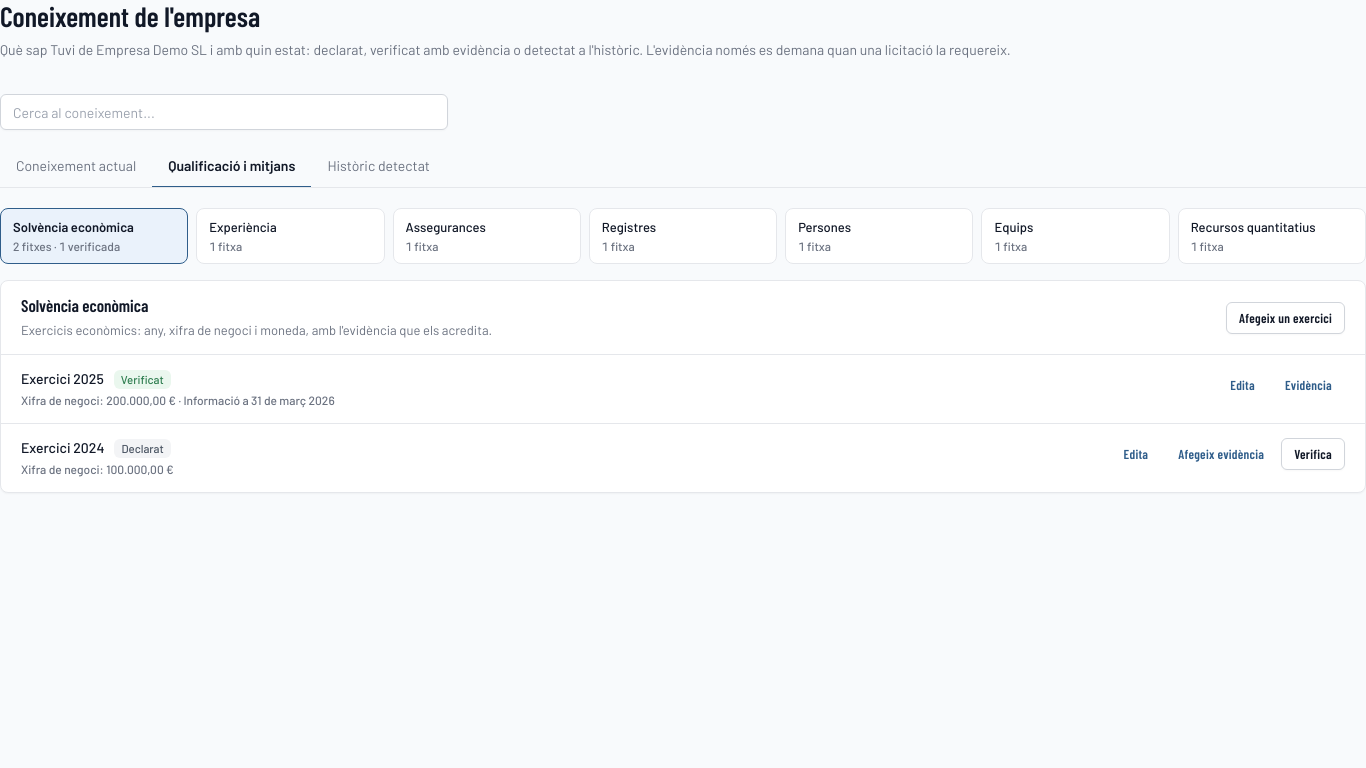
Scenario: Qualificació i mitjans: formularis › un import mal escrit no s'envia i es diu per què
The image size is (1366, 768).
Expected: the navigation bar named "Seccions de qualificació i mitjans" is shown, [0,208,1365,264]
Click the button "Afegeix un exercici".
click(1286, 318)  # box [1226,302,1345,334]
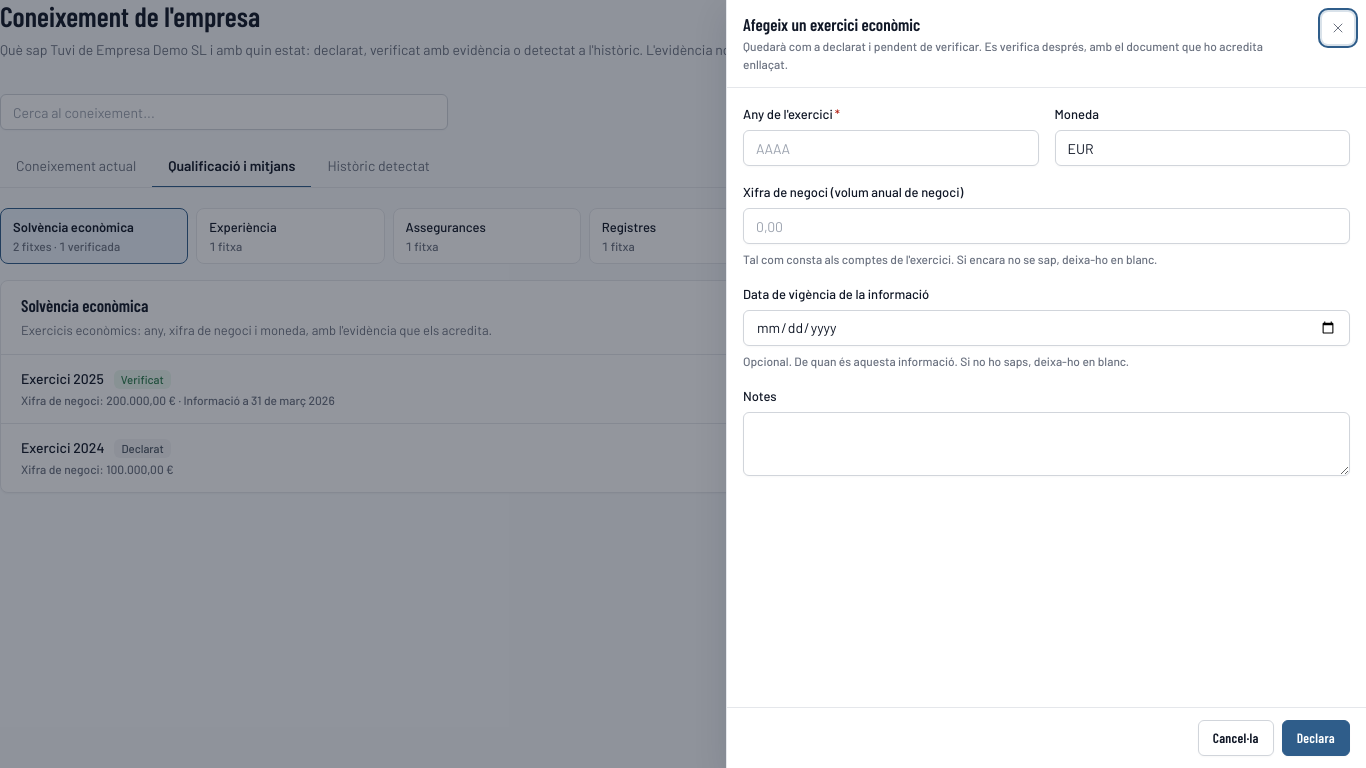
Type "2023" into the field labelled "Any de l'exercici*".
click(891, 148); type("2023")  # box [743,130,1038,166]
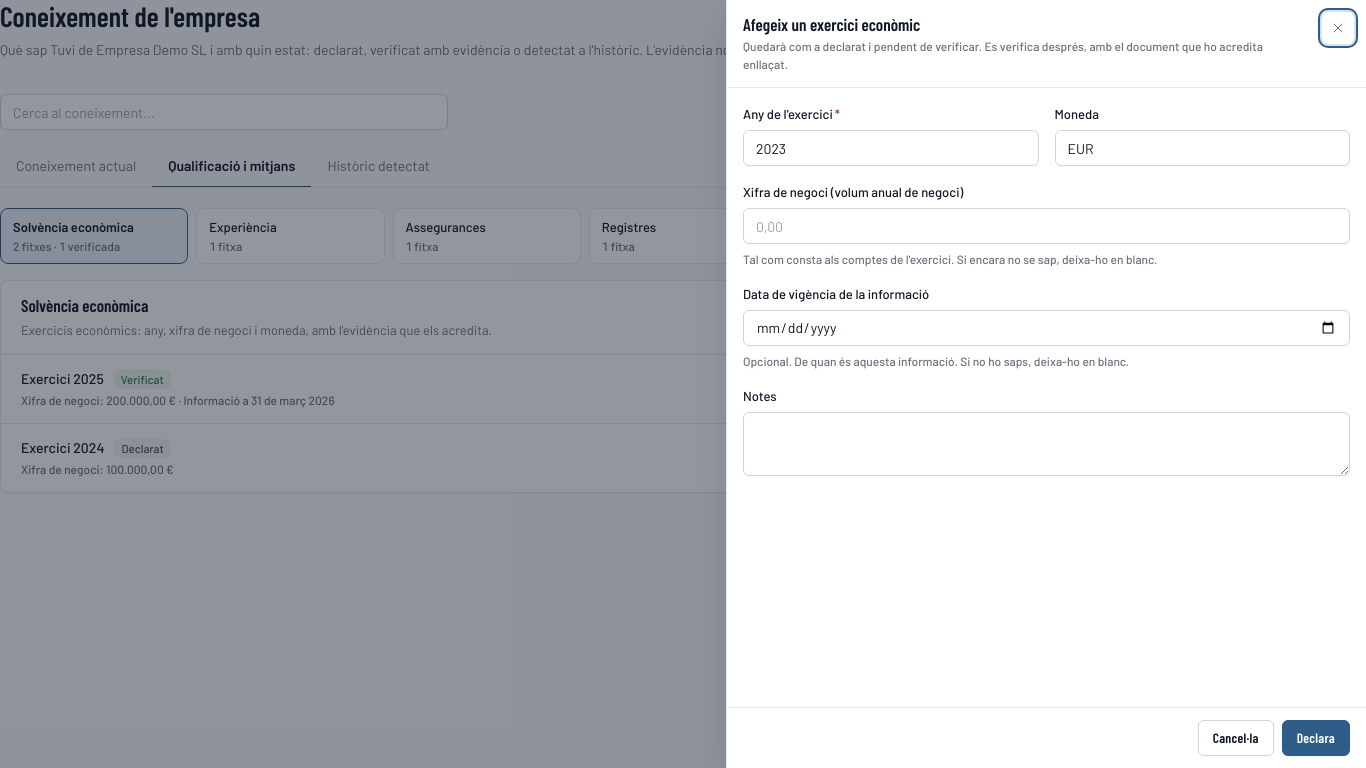
Type "-5" into the field labelled "Xifra de negoci".
click(1046, 226); type("-5")  # box [743,208,1350,244]
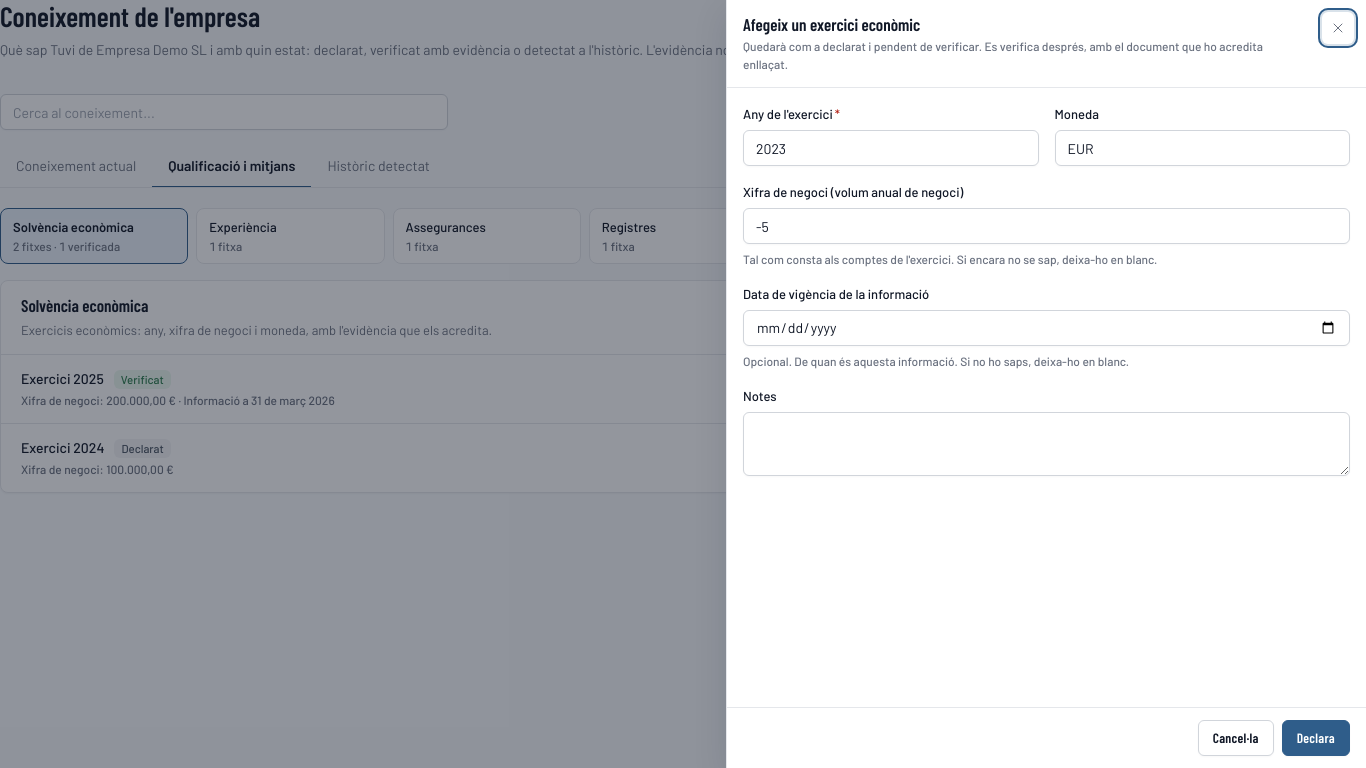
Click the button "Declara".
click(1316, 738)  # box [1282,720,1350,756]
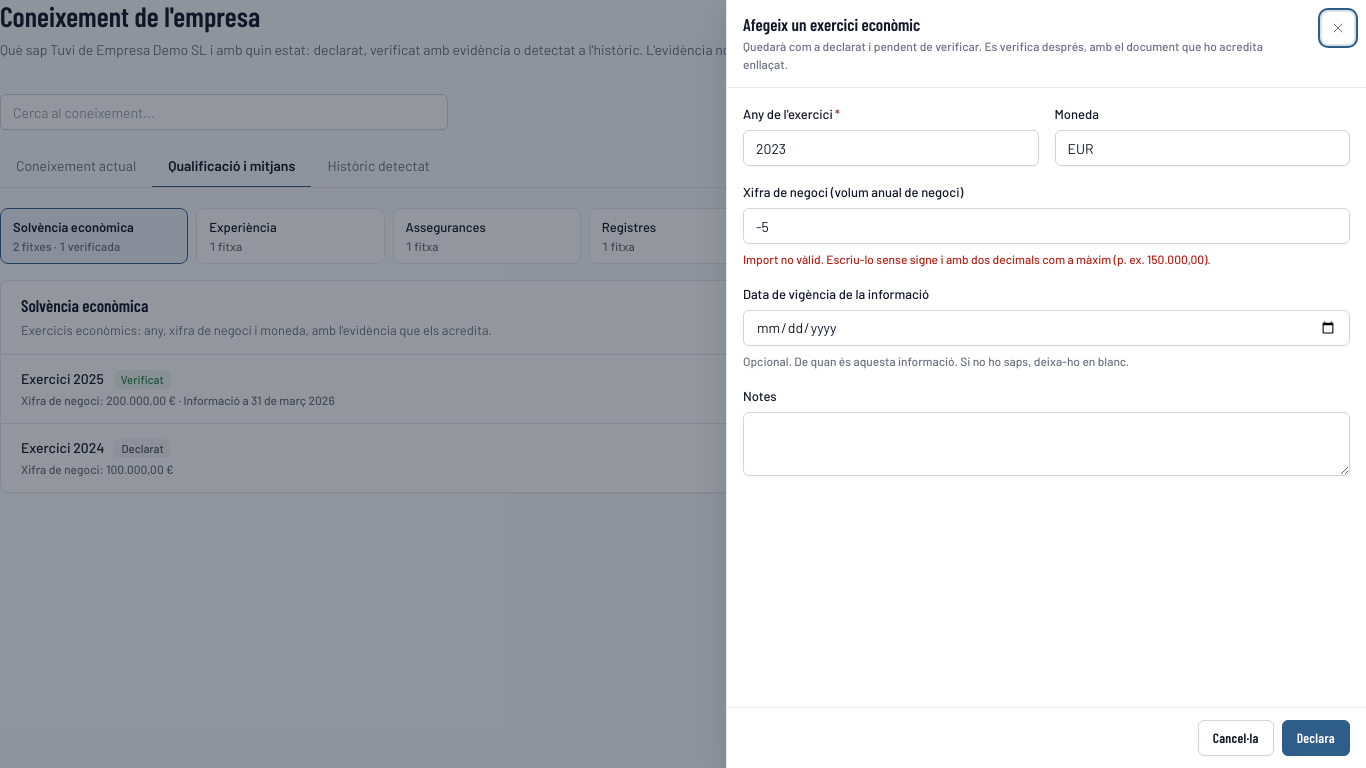
Expected: the text "Import no vàlid" is shown, [743,252,1211,266]
